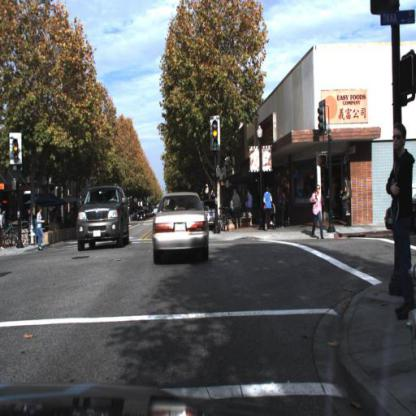car: (152, 191, 212, 268), (76, 181, 131, 252), (385, 192, 416, 240)
pedestrian: (386, 123, 416, 323), (309, 182, 327, 238), (338, 173, 354, 225), (35, 206, 49, 256), (230, 190, 242, 232), (263, 187, 274, 228), (244, 189, 254, 222)
trafficLight-Yellow: (8, 132, 23, 166), (211, 116, 223, 152)
